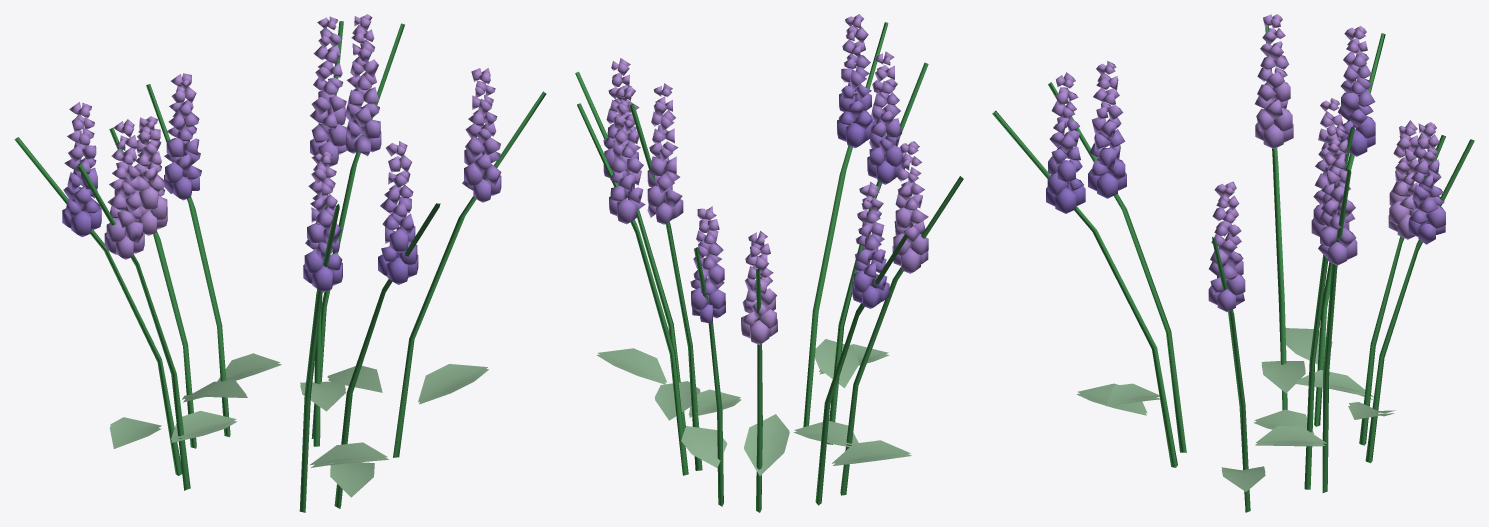
File: ing_lavender.gltf
3 renders of one model, left to right at view 1: azimuth 30°, elevation 25°; view 2: azimuth 150°, elevation 25°; view 3: azimuth 270°, elevation 25°, orthographic. The views are drawn at different scales.
Visible parts, largest first — view 1: ing_lavender; view 2: ing_lavender; view 3: ing_lavender.
Part boxes in pixels (left/top/right/bottom): ing_lavender: left=14, top=14, right=546, bottom=512; ing_lavender: left=575, top=14, right=963, bottom=512; ing_lavender: left=992, top=14, right=1474, bottom=512.
Size of what is drawn, in the model's own units: 0.4991 by 0.4459 by 0.4857.
